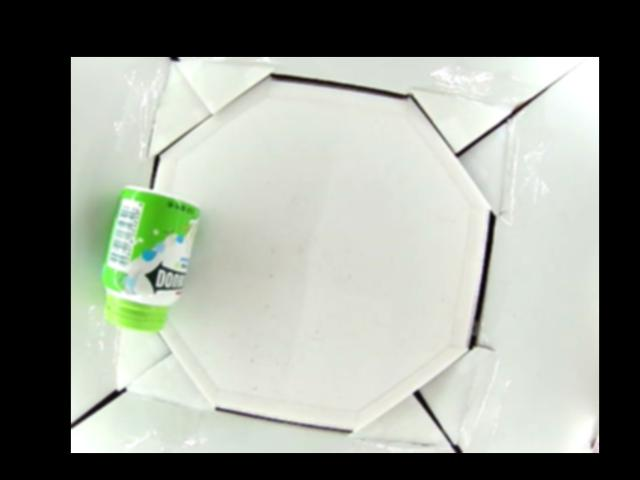Bottle: (99, 184, 202, 338)
